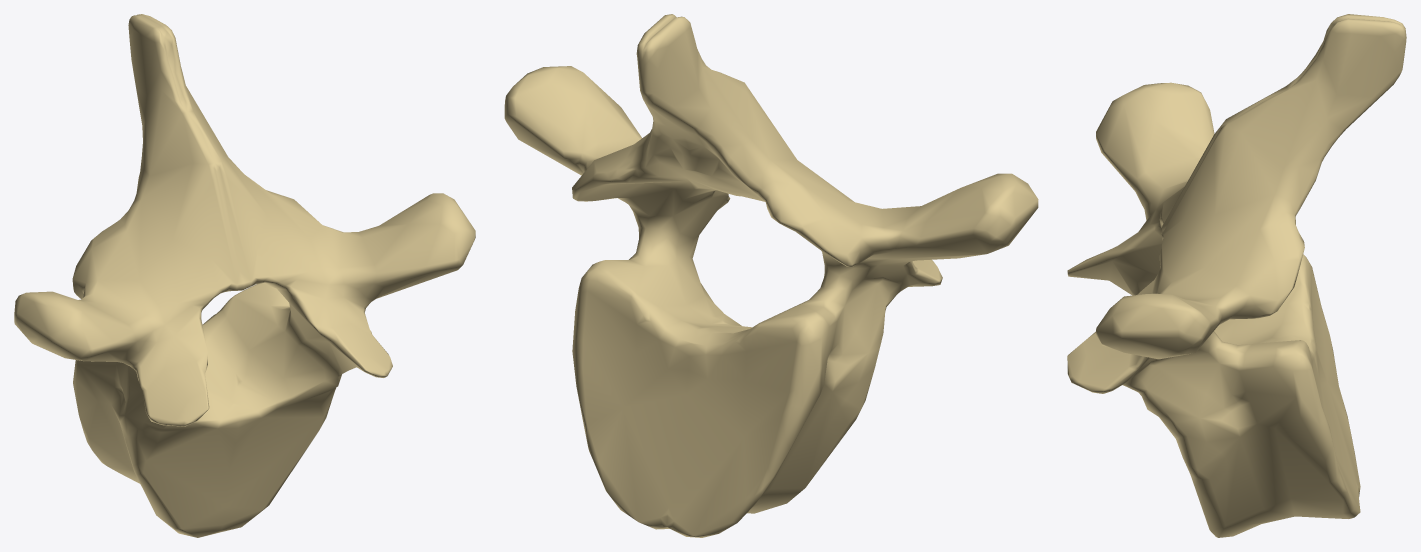
The picture shows the model from 3 angles, left to right: view 1: azimuth 30°, elevation 25°; view 2: azimuth 150°, elevation 25°; view 3: azimuth 270°, elevation 25°; orthographic projection. The views are drawn at different scales.
Visible parts, largest first — view 1: 第四胸椎; view 2: 第四胸椎; view 3: 第四胸椎.
Boxes of the visible parts, <box> form: 第四胸椎: <box>14,14,475,537</box>; 第四胸椎: <box>504,14,1038,537</box>; 第四胸椎: <box>1067,14,1406,537</box>.
Size of the model in its own units: 0.1044 by 0.1051 by 0.0635.
